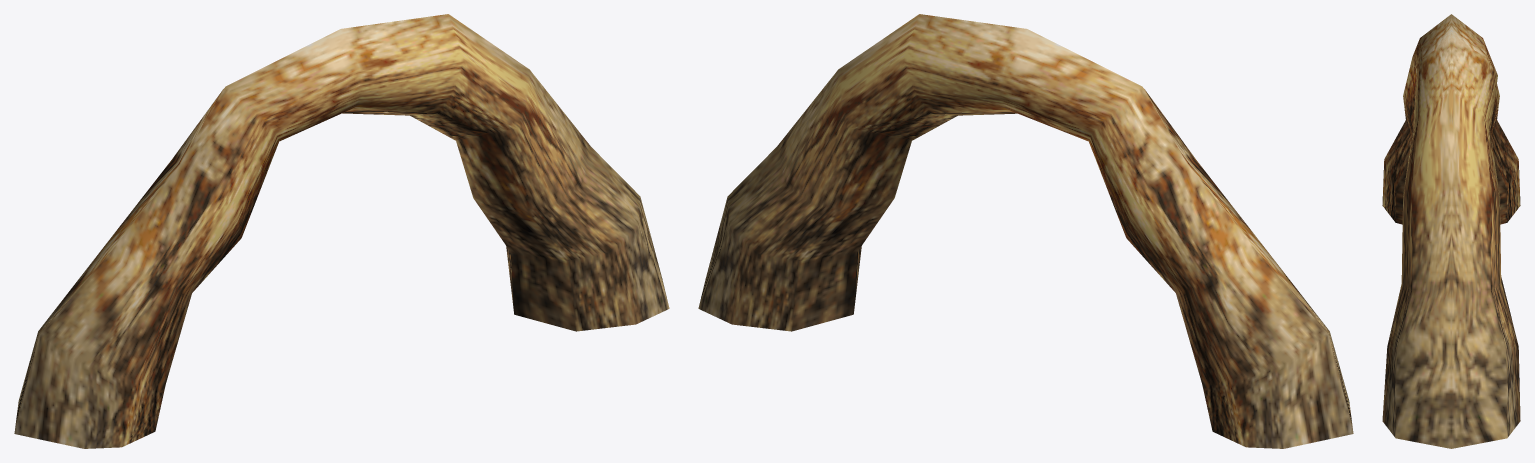
3 renders of one model, left to right at view 1: azimuth 30°, elevation 25°; view 2: azimuth 150°, elevation 25°; view 3: azimuth 270°, elevation 25°, orthographic. The views are drawn at different scales.
Visible parts, largest first — view 1: SMDImport; view 2: SMDImport; view 3: SMDImport.
Boxes of the visible parts, x1=… form: SMDImport: x1=14, y1=14, x2=669, y2=448; SMDImport: x1=698, y1=14, x2=1353, y2=448; SMDImport: x1=1382, y1=14, x2=1520, y2=448.
Bounding box in the file's own units: 819 × 396 × 178.
